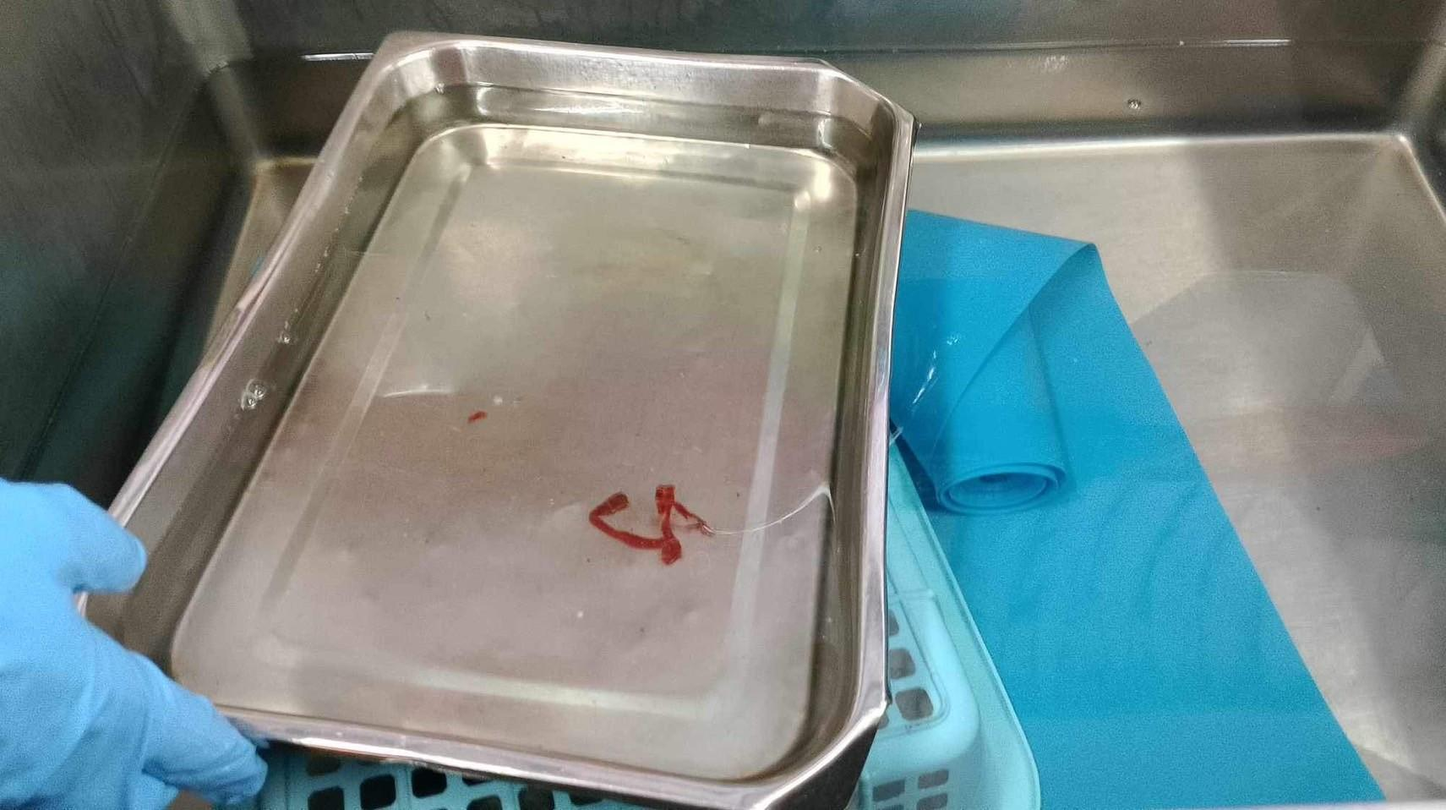General: (81, 28, 925, 807)
Infectious: (0, 476, 269, 808)
Sharps: (587, 481, 713, 566)
